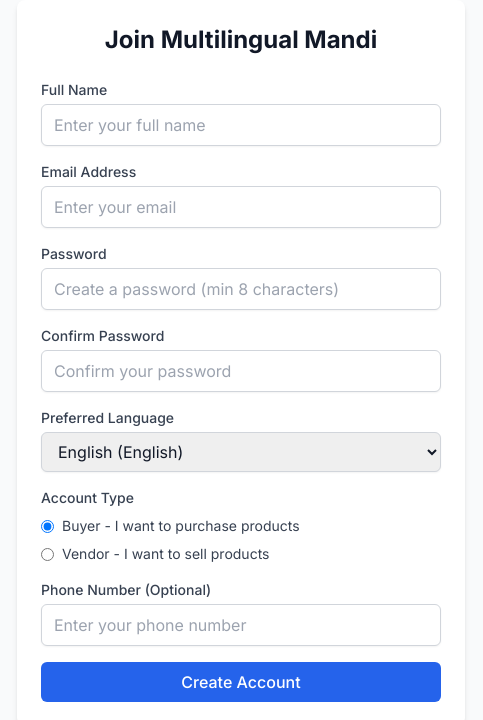
Test: RegisterForm Component › should show error message when registration fails
The width and height of the screenshot is (483, 720).
Note: Fill out valid form
Type "John Doe" into the field labelled "Full Name".
click(241, 125); type("John Doe")  # box 41,104 -> 441,146
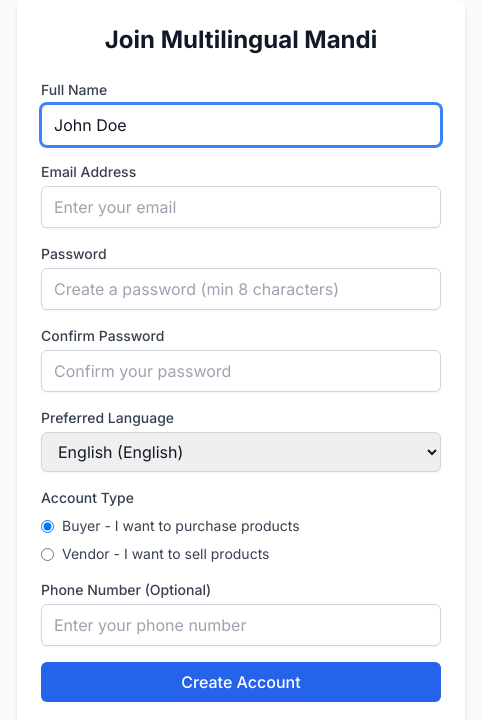
Type "john@example.com" into the field labelled "Email Address".
click(241, 207); type("john@example.com")  # box 41,186 -> 441,228
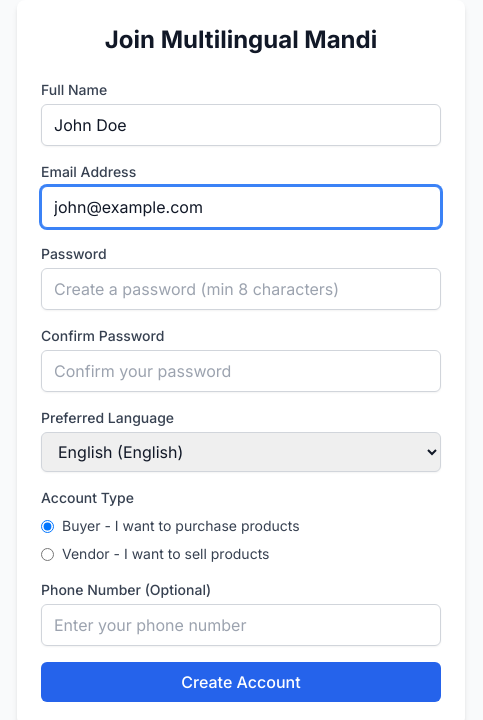
Type "password123" into the password field labelled "Password".
click(241, 289); type("password123")  # box 41,268 -> 441,310
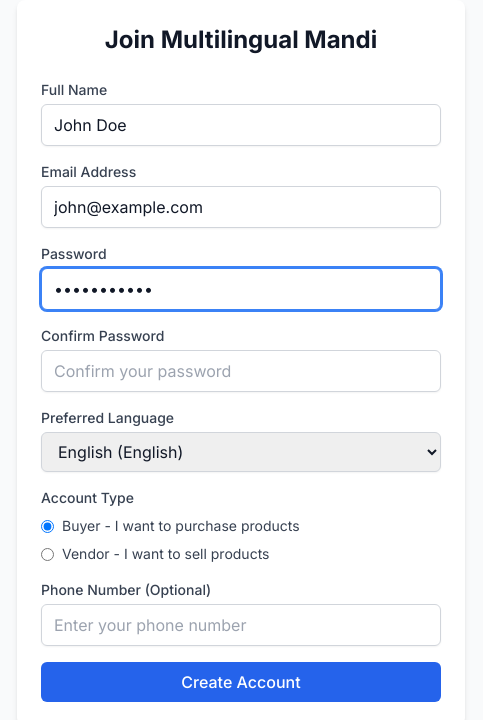
Type "password123" into the password field labelled "Confirm Password".
click(241, 371); type("password123")  # box 41,350 -> 441,392
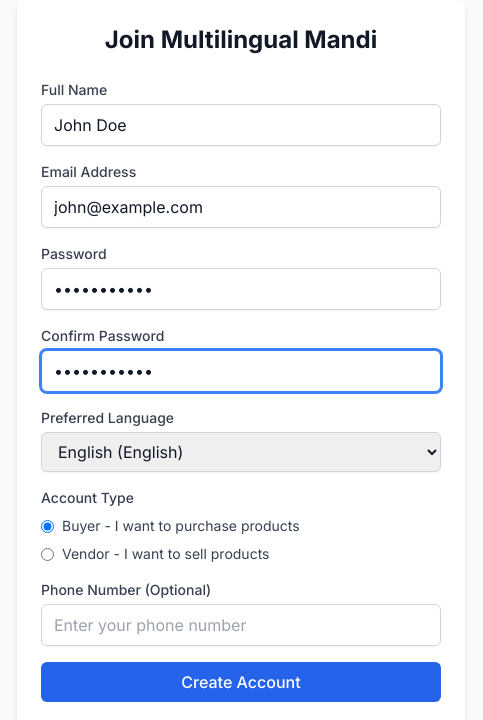
Click the button "Create Account".
click(241, 682)  # box 41,662 -> 441,702
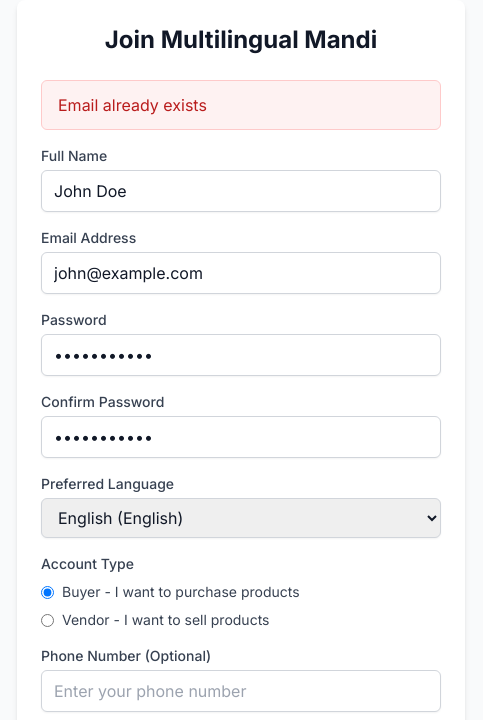
expect the text "Email already exists" is shown: met, box 41,80 -> 441,130
